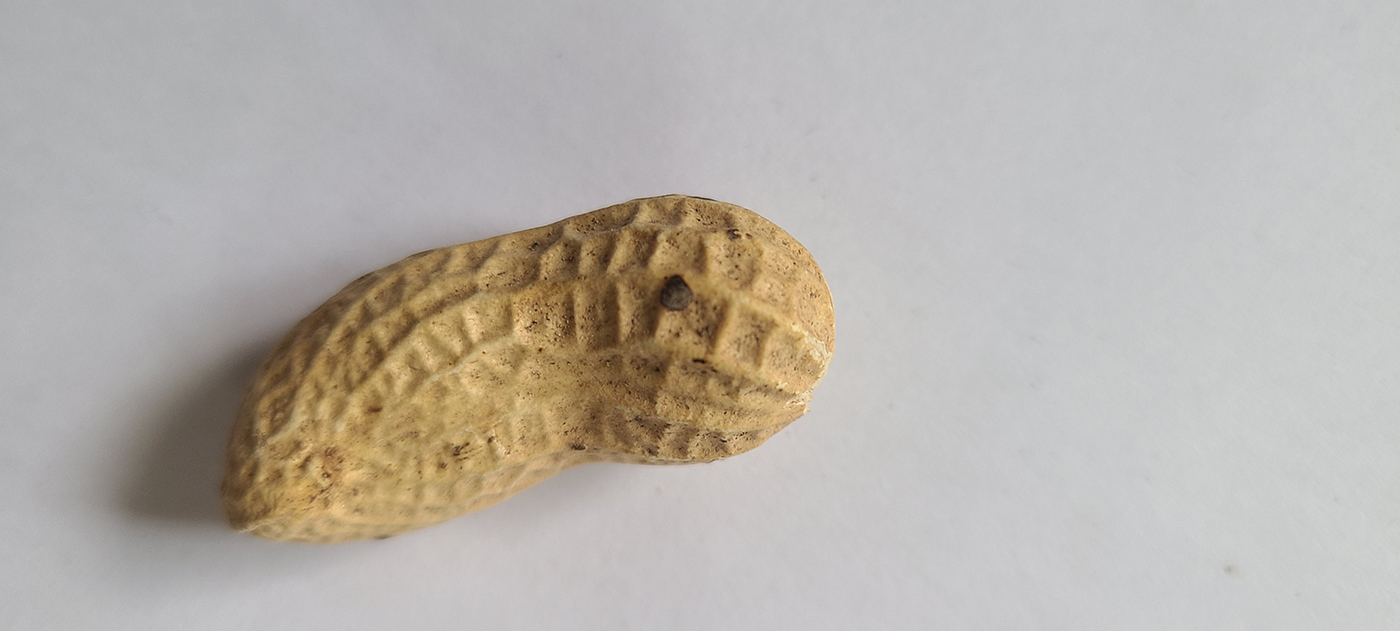h: (214, 191, 839, 546)
